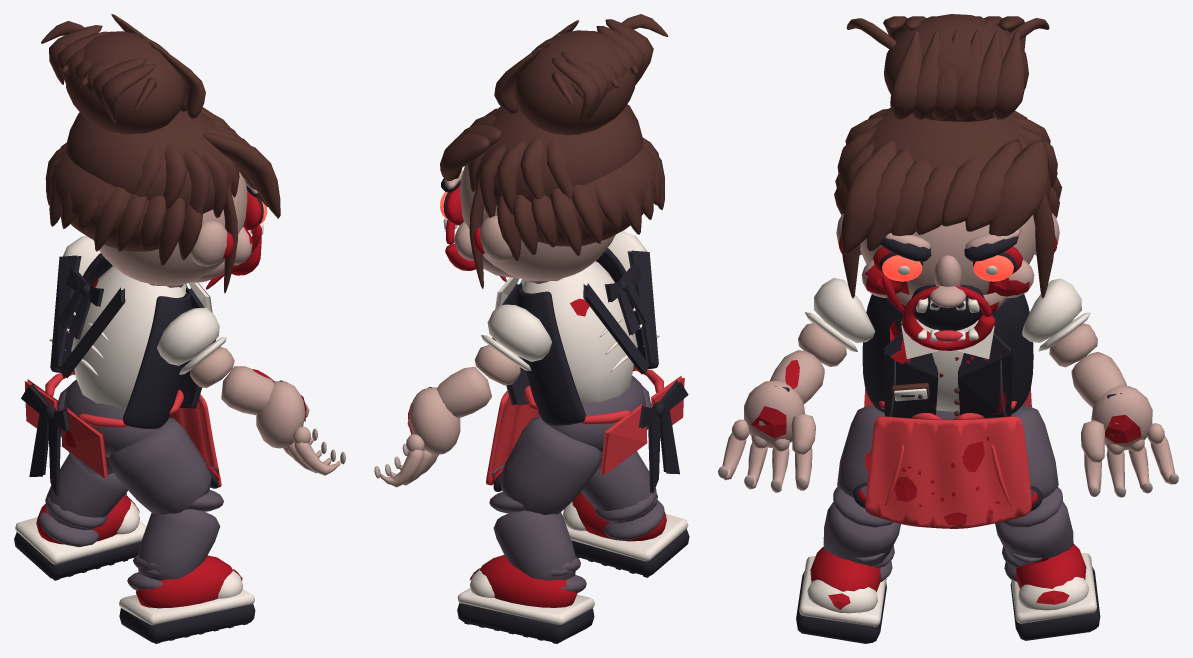
3 renders of one model, left to right at view 1: azimuth 30°, elevation 25°; view 2: azimuth 150°, elevation 25°; view 3: azimuth 270°, elevation 25°, orthographic. The views are drawn at different scales.
Visible parts, largest first — view 1: head__pal_woodWarm, torso__pal_uiDark, torso__pal_picketWhite, legR__pal_asphalt, shinR__pal_asphalt, shinL__pal_asphalt, hip__pal_survivorRed, head__pal_infectedSkin_regions, handR__pal_infectedSkin, armR__pal_picketWhite, footR__pal_blood, footR__pal_uiDark (+11 smaller); view 2: head__pal_woodWarm, torso__pal_uiDark, torso__pal_picketWhite, legL__pal_asphalt, shinL__pal_asphalt, hip__pal_survivorRed, shinR__pal_asphalt, head__pal_infectedSkin_regions, handL__pal_infectedSkin, armL__pal_picketWhite, footL__pal_blood, footL__pal_uiDark (+11 smaller); view 3: head__pal_woodWarm, hip__pal_survivorRed, torso__pal_uiDark, handR__pal_infectedSkin, handL__pal_infectedSkin, head__pal_infectedSkin_regions, shinR__pal_asphalt, shinL__pal_asphalt, head__pal_blood, head__pal_uiDark, footR__pal_picketWhite, armR__pal_picketWhite (+19 smaller).
Part boxes in pixels (box(x1,y1,x2,y2)): head__pal_woodWarm: box(41, 14, 280, 293); torso__pal_uiDark: box(50, 253, 216, 429); torso__pal_picketWhite: box(49, 266, 212, 407); legR__pal_asphalt: box(108, 417, 218, 514); shinR__pal_asphalt: box(127, 489, 223, 590); shinL__pal_asphalt: box(38, 453, 127, 547); hip__pal_survivorRed: box(24, 370, 221, 487); head__pal_infectedSkin_regions: box(93, 171, 252, 285); handR__pal_infectedSkin: box(256, 381, 340, 475); armR__pal_picketWhite: box(157, 307, 226, 374); footR__pal_blood: box(136, 555, 242, 608); footR__pal_uiDark: box(119, 604, 255, 643); head__pal_woodWarm: box(440, 14, 668, 288); torso__pal_uiDark: box(492, 248, 658, 425); torso__pal_picketWhite: box(495, 261, 659, 404); legL__pal_asphalt: box(492, 416, 602, 514); shinL__pal_asphalt: box(489, 492, 586, 592); hip__pal_survivorRed: box(486, 366, 684, 485); shinR__pal_asphalt: box(581, 451, 664, 540); head__pal_infectedSkin_regions: box(454, 164, 615, 281); handL__pal_infectedSkin: box(380, 387, 460, 487); armL__pal_picketWhite: box(481, 304, 551, 370); footL__pal_blood: box(469, 555, 577, 607); footL__pal_uiDark: box(457, 603, 594, 643); head__pal_woodWarm: box(834, 14, 1062, 298); hip__pal_survivorRed: box(864, 388, 1031, 528); torso__pal_uiDark: box(862, 294, 1033, 418); handR__pal_infectedSkin: box(722, 380, 815, 492); handL__pal_infectedSkin: box(1081, 385, 1175, 497); head__pal_infectedSkin_regions: box(860, 214, 1035, 320); shinR__pal_asphalt: box(823, 486, 900, 581); shinL__pal_asphalt: box(995, 487, 1073, 581); head__pal_blood: box(838, 236, 1057, 350); head__pal_uiDark: box(879, 236, 1018, 330); footR__pal_picketWhite: box(799, 556, 886, 626); armR__pal_picketWhite: box(805, 278, 875, 351).
Size of what is drawn, in the model's own units: 0.6699 by 1.64 by 1.15.
